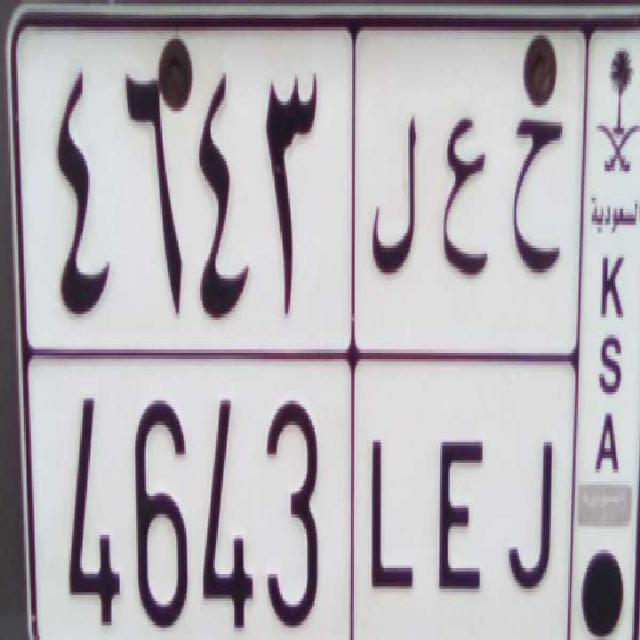license_plate: (17, 346, 577, 640)
